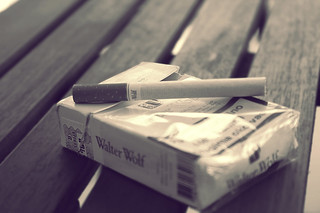cigarette: (56, 60, 301, 213), (71, 75, 269, 106)
